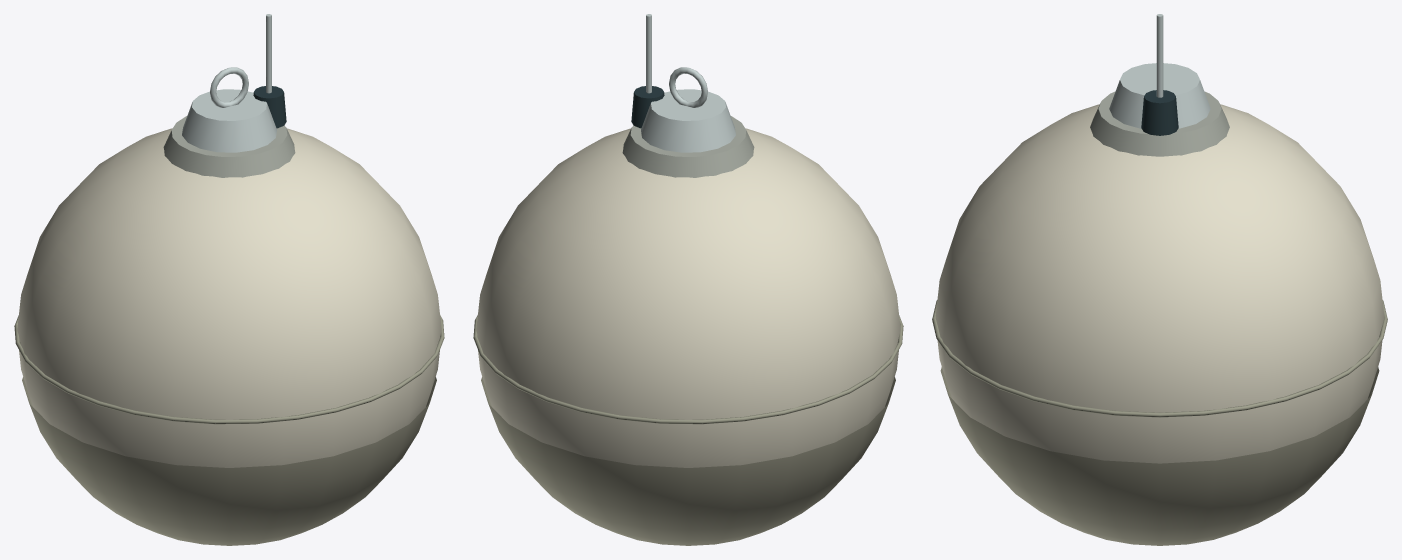
The model's file is venera-7.glb.
3 views of the same model, side by side, from view 1: azimuth 30°, elevation 25°; view 2: azimuth 150°, elevation 25°; view 3: azimuth 270°, elevation 25° (orthographic). The views are drawn at different scales.
Parts seen in each view (by area): view 1: venera-7-spherical-thermal-envelope, venera-7-lower-thermal-protection, venera-7-parachute-attachment-base, venera-7-upper-parachute-compartment, venera-7-envelope-seam, venera-7-transmitting-antenna-base-schematic, venera-7-parachute-attachment-loop-schematic; view 2: venera-7-spherical-thermal-envelope, venera-7-lower-thermal-protection, venera-7-parachute-attachment-base, venera-7-upper-parachute-compartment, venera-7-envelope-seam, venera-7-transmitting-antenna-base-schematic, venera-7-parachute-attachment-loop-schematic; view 3: venera-7-spherical-thermal-envelope, venera-7-lower-thermal-protection, venera-7-upper-parachute-compartment, venera-7-parachute-attachment-base, venera-7-envelope-seam, venera-7-transmitting-antenna-base-schematic, venera-7-top-antenna-schematic.
Boxes of the visible parts, x1=… form: venera-7-spherical-thermal-envelope: x1=17, y1=128, x2=441, y2=467; venera-7-lower-thermal-protection: x1=22, y1=377, x2=436, y2=545; venera-7-parachute-attachment-base: x1=182, y1=89, x2=276, y2=152; venera-7-upper-parachute-compartment: x1=163, y1=116, x2=295, y2=177; venera-7-envelope-seam: x1=14, y1=315, x2=444, y2=424; venera-7-transmitting-antenna-base-schematic: x1=253, y1=86, x2=286, y2=128; venera-7-parachute-attachment-loop-schematic: x1=210, y1=67, x2=248, y2=107; venera-7-spherical-thermal-envelope: x1=476, y1=128, x2=900, y2=467; venera-7-lower-thermal-protection: x1=481, y1=377, x2=895, y2=545; venera-7-parachute-attachment-base: x1=641, y1=89, x2=735, y2=152; venera-7-upper-parachute-compartment: x1=622, y1=116, x2=754, y2=177; venera-7-envelope-seam: x1=473, y1=315, x2=903, y2=424; venera-7-transmitting-antenna-base-schematic: x1=631, y1=86, x2=664, y2=128; venera-7-parachute-attachment-loop-schematic: x1=669, y1=67, x2=707, y2=107; venera-7-spherical-thermal-envelope: x1=935, y1=104, x2=1384, y2=463; venera-7-lower-thermal-protection: x1=940, y1=367, x2=1379, y2=545; venera-7-upper-parachute-compartment: x1=1090, y1=91, x2=1229, y2=156; venera-7-parachute-attachment-base: x1=1109, y1=63, x2=1210, y2=128; venera-7-envelope-seam: x1=932, y1=300, x2=1387, y2=417; venera-7-transmitting-antenna-base-schematic: x1=1141, y1=90, x2=1178, y2=135; venera-7-top-antenna-schematic: x1=1156, y1=14, x2=1163, y2=97.
Bounding box in the file's own units: 1.7 × 2.19 × 1.7.
